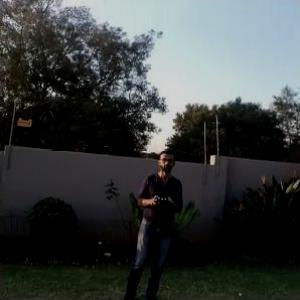follow: (117, 142, 187, 299)
